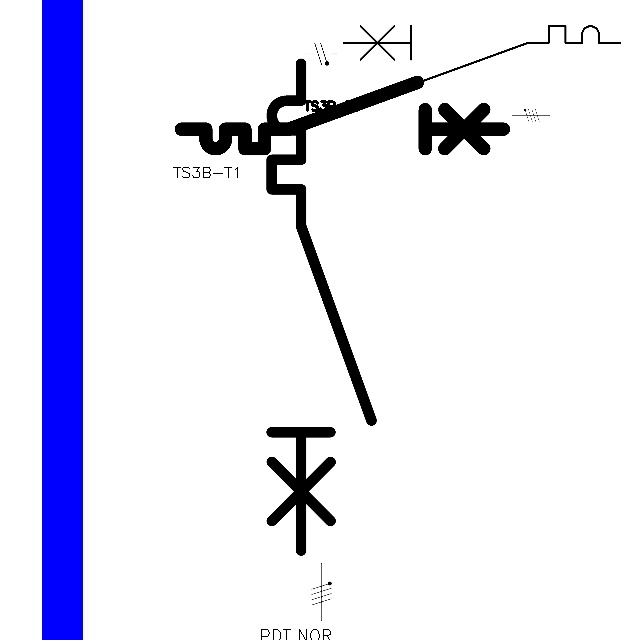interruptor_termomagnetico: (259, 51, 384, 563), (173, 74, 511, 157), (336, 19, 627, 90)
